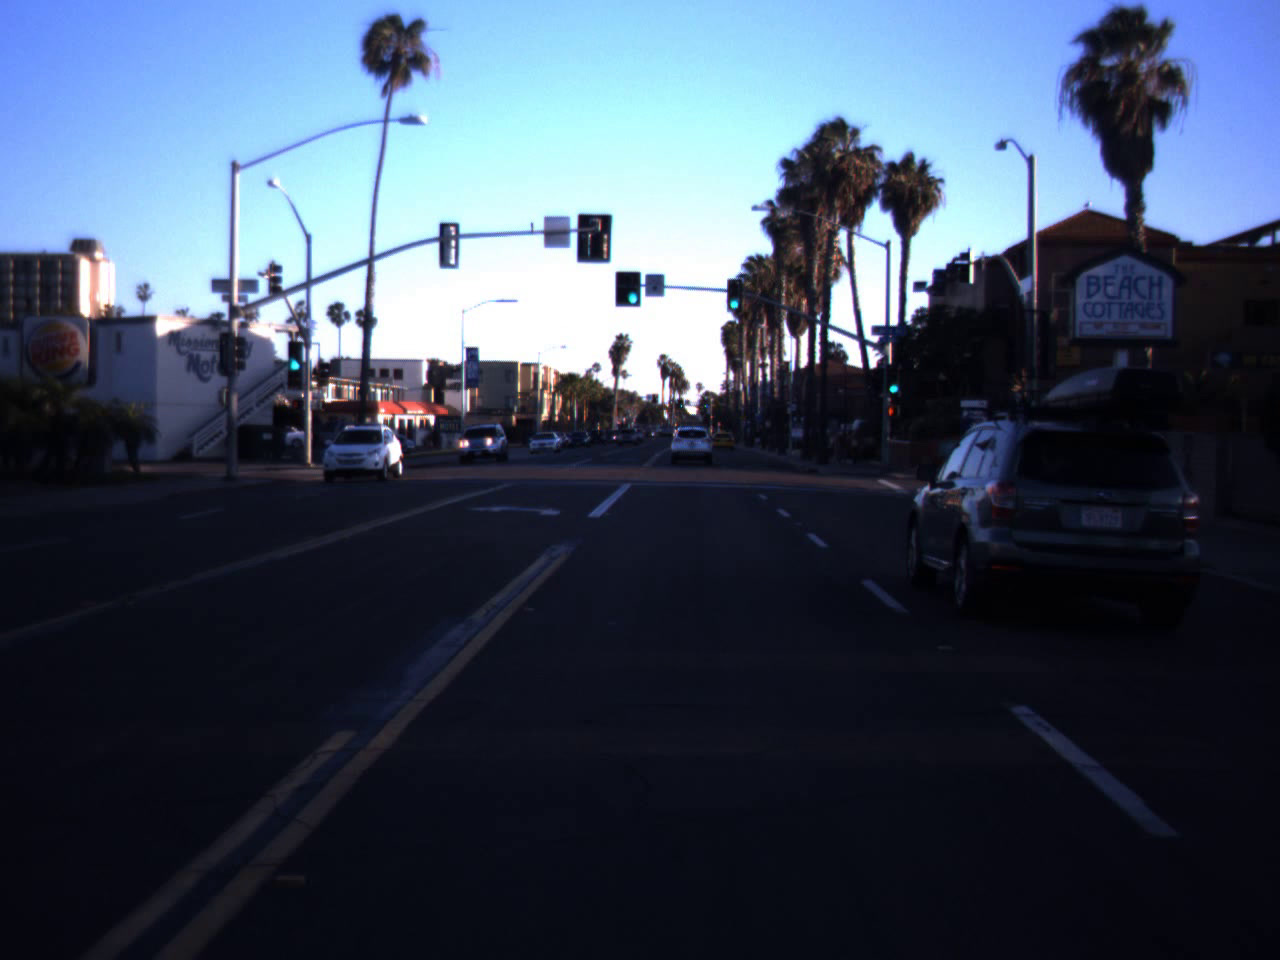go: (283, 333, 307, 373), (624, 267, 642, 307), (883, 365, 904, 395), (724, 281, 745, 311)
